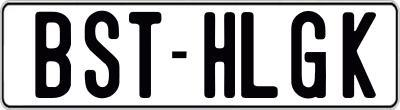B: (32, 10, 72, 97)
G: (288, 9, 328, 98)
H: (202, 12, 233, 103)
K: (342, 12, 379, 102)
L: (240, 10, 282, 98)
S: (82, 11, 116, 100)
T: (128, 12, 160, 103)
